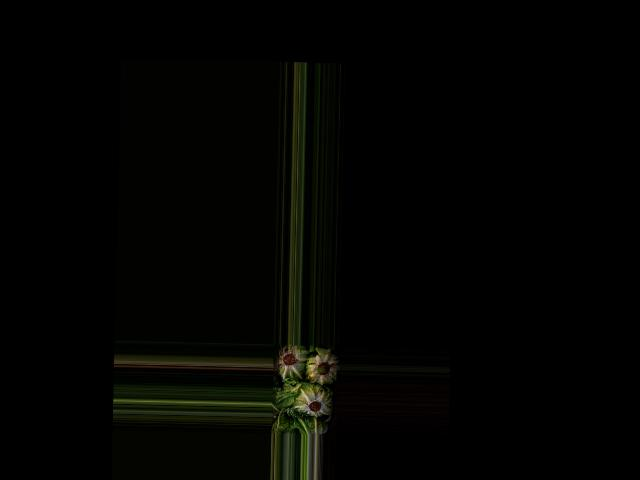lettuce: (277, 344, 308, 380)
